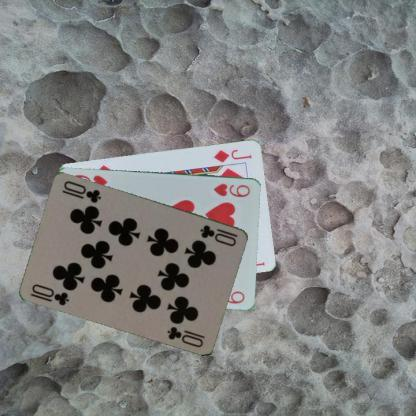10c: (28, 281, 71, 307), (198, 222, 240, 248)
9h: (211, 180, 251, 198)
Jd: (211, 146, 253, 164)
